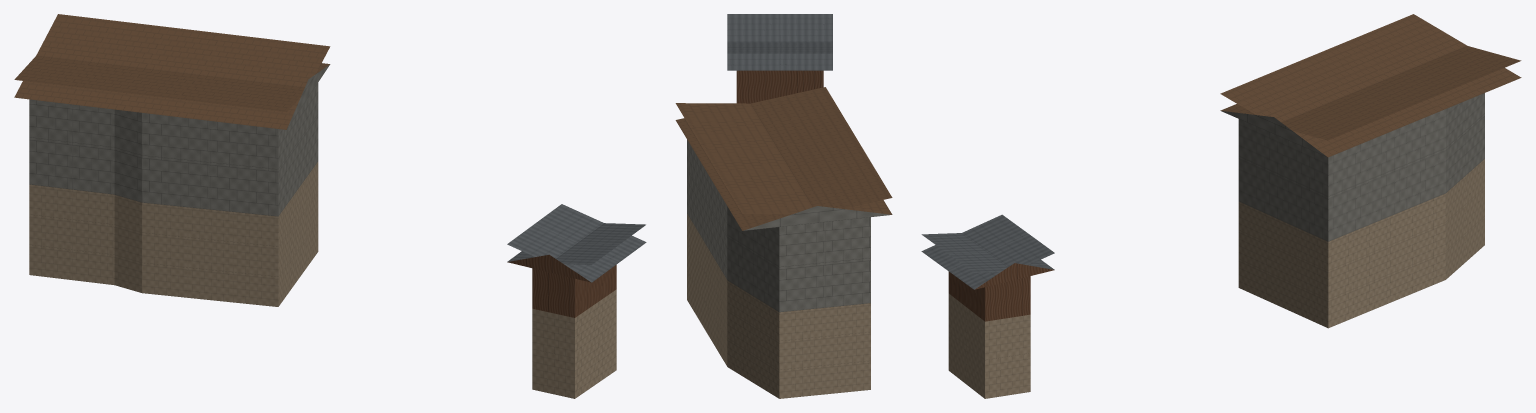
File: bld_c38_47_193.gltf
3 views of the same model, side by side, from view 1: azimuth 30°, elevation 25°; view 2: azimuth 150°, elevation 25°; view 3: azimuth 270°, elevation 25° (orthographic). The views are drawn at different scales.
Visible parts, largest first — view 1: bld_c38_47_193; view 2: bld_c38_47_193; view 3: bld_c38_47_193.
Boxes of the visible parts, box(x1,y1,x2,y2) form: bld_c38_47_193: box(14, 14, 646, 398); bld_c38_47_193: box(675, 14, 892, 398); bld_c38_47_193: box(921, 14, 1521, 398).
Bounding box in the file's own units: 23.73 × 12.3 × 32.07.
7 materials, 7 textured.
